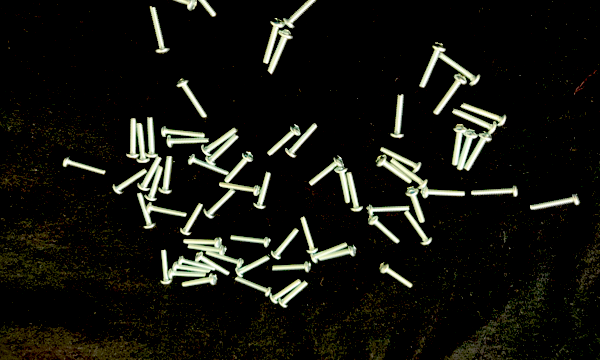longscrew: (432, 73, 468, 115), (439, 51, 482, 86), (418, 41, 447, 89), (176, 77, 209, 119), (389, 157, 429, 190), (282, 0, 325, 30), (452, 107, 498, 135), (267, 29, 294, 76), (285, 121, 319, 158), (379, 145, 422, 174), (267, 123, 302, 158), (460, 101, 507, 127), (201, 126, 240, 157), (374, 154, 413, 185), (147, 4, 171, 54), (465, 131, 494, 172), (205, 133, 240, 166), (262, 17, 286, 65), (309, 155, 345, 187), (186, 152, 230, 177), (403, 210, 433, 246), (224, 150, 255, 184), (203, 189, 237, 220), (270, 226, 301, 260), (379, 260, 414, 290), (367, 214, 401, 244), (529, 192, 582, 211), (61, 155, 106, 177), (310, 240, 349, 265), (136, 156, 163, 192), (112, 168, 148, 195), (457, 128, 479, 171), (278, 280, 310, 309), (234, 253, 271, 278), (195, 251, 230, 277), (179, 200, 204, 236), (234, 275, 273, 298), (270, 278, 303, 305), (404, 186, 427, 224), (136, 192, 158, 230), (161, 122, 206, 140), (144, 164, 165, 202), (253, 171, 273, 210), (177, 253, 216, 273), (334, 165, 354, 204), (299, 216, 319, 254), (319, 242, 357, 262), (146, 201, 188, 219), (390, 93, 406, 140), (346, 172, 364, 213), (451, 123, 468, 166), (205, 251, 245, 269), (230, 232, 272, 249), (178, 0, 217, 18), (218, 181, 261, 197), (366, 201, 411, 216), (421, 186, 466, 201), (166, 134, 210, 149), (271, 259, 312, 275), (470, 185, 520, 198), (125, 116, 140, 159), (145, 116, 160, 159), (158, 155, 174, 195), (182, 272, 219, 289), (136, 122, 151, 163), (148, 0, 198, 12), (172, 260, 212, 275), (187, 243, 228, 257), (158, 248, 173, 286), (182, 236, 224, 249), (169, 267, 208, 281)
